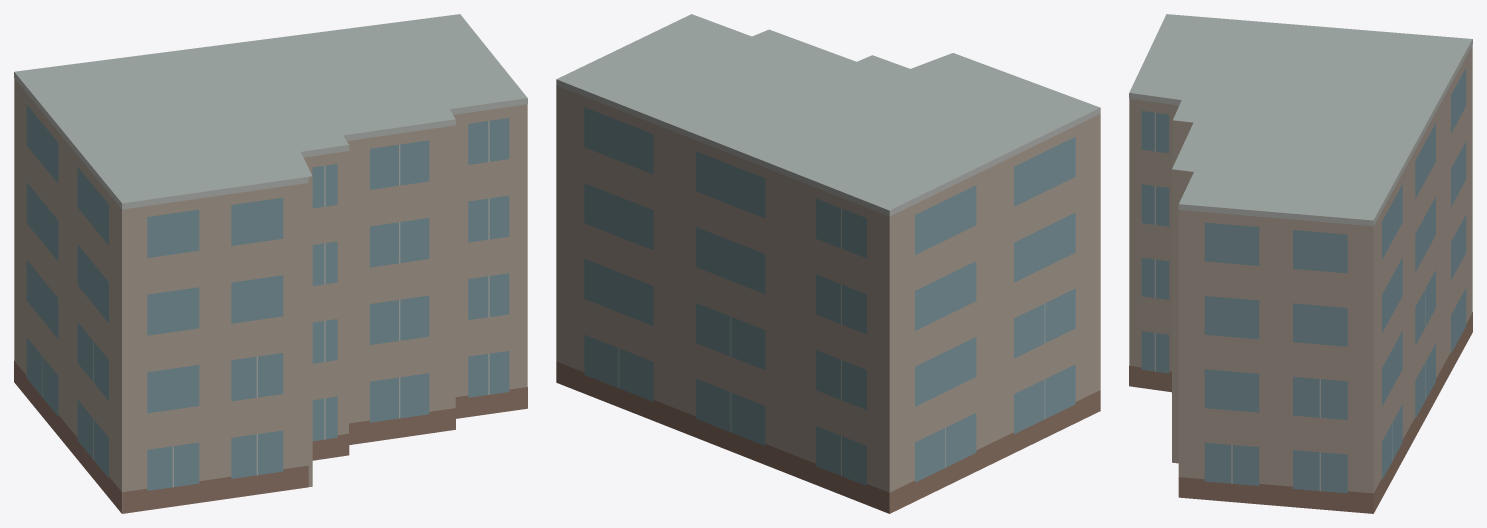
The model's file is survey-upis-32853883.glb.
3 renders of one model, left to right at view 1: azimuth 30°, elevation 25°; view 2: azimuth 150°, elevation 25°; view 3: azimuth 270°, elevation 25°, orthographic. The views are drawn at different scales.
Visible parts, largest first — view 1: survey-upis-32853883.tmp; view 2: survey-upis-32853883.tmp; view 3: survey-upis-32853883.tmp.
Boxes of the visible parts, x1=… form: survey-upis-32853883.tmp: x1=14, y1=14, x2=527, y2=513; survey-upis-32853883.tmp: x1=556, y1=14, x2=1100, y2=513; survey-upis-32853883.tmp: x1=1129, y1=14, x2=1472, y2=513.
Size of the model in its own units: 18.57 by 12.3 by 13.06.
